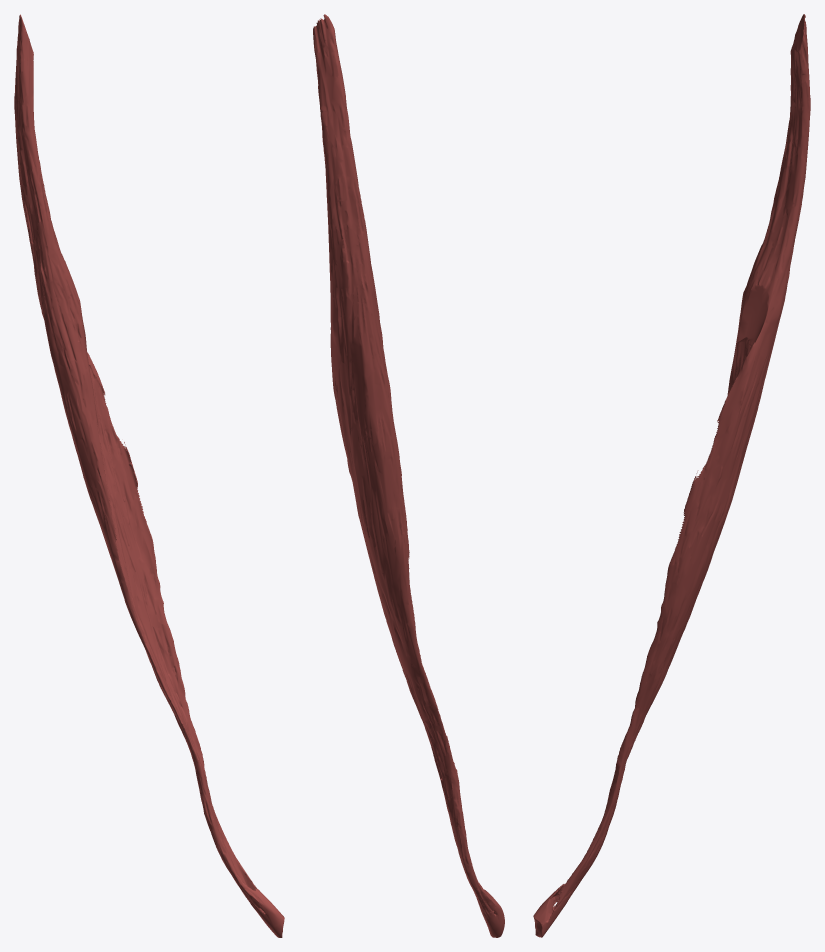
3 renders of one model, left to right at view 1: azimuth 90°, elevation 25°; view 2: azimuth 150°, elevation 25°; view 3: azimuth 270°, elevation 25°, orthographic. The views are drawn at different scales.
Visible parts, largest first — view 1: BP45; view 2: BP45; view 3: BP45.
Part boxes in pixels (bbox=[...]): BP45: bbox=[14, 14, 284, 937]; BP45: bbox=[313, 14, 504, 937]; BP45: bbox=[533, 14, 810, 937].
Bounding box in the file's own units: 0.0181 × 0.2879 × 0.0774.
